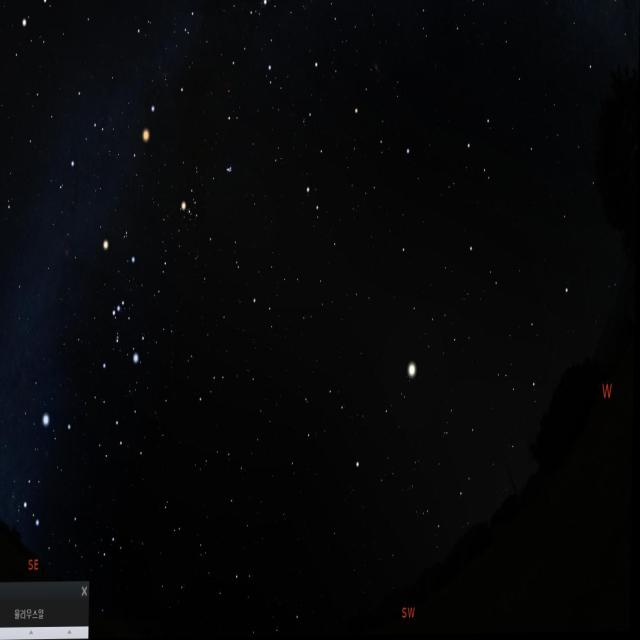canis_minor: (0, 182, 25, 258)
gemini: (8, 0, 124, 151)
orion: (92, 239, 147, 382)
pleiades: (221, 152, 241, 191)
taurus: (171, 135, 247, 239)
